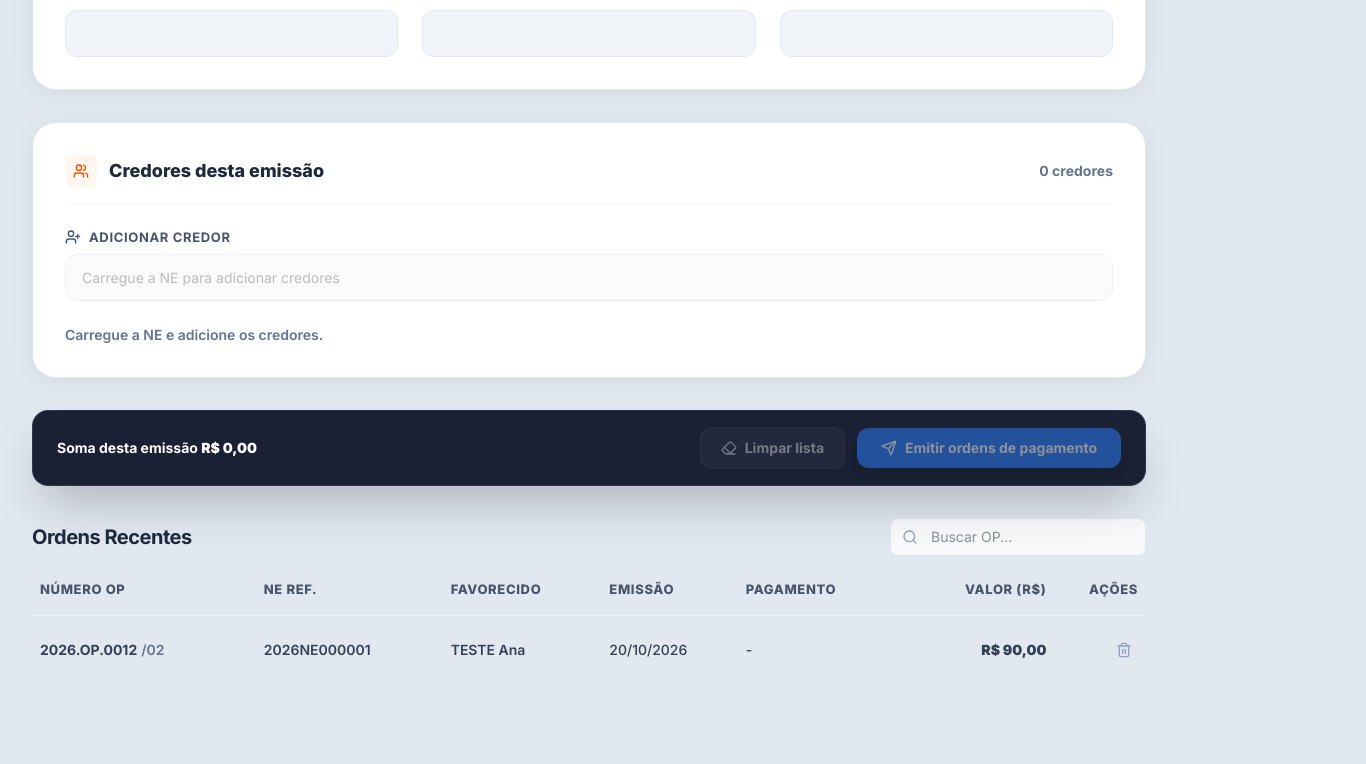
Test: Ordem de Pagamento — revisão da aba 4 › O1: excluir OP › ADMIN: pede o motivo, envia no DELETE, avisa e recarrega a lista
(page scrolled)
Click the button named "Excluir OP 2026.OP.0012 /02": coordinates (1124, 650) [1110, 636, 1138, 664]
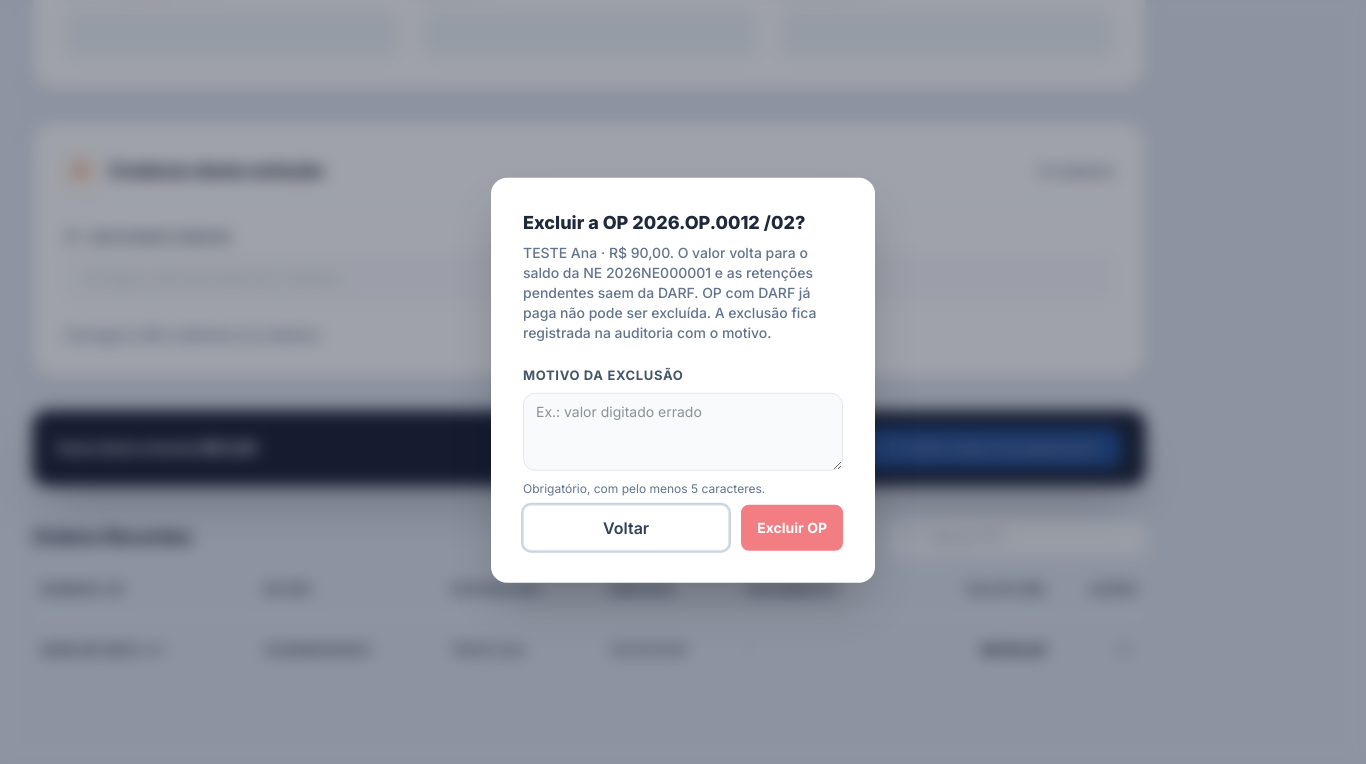
Expected: the dialog shows "volta para o saldo da NE 2026NE000001", [491, 178, 875, 582]
Expected: the button "Excluir OP" is disabled, [741, 504, 843, 550]
In the text box labelled "Motivo da exclusão": coordinates (683, 431) [523, 392, 843, 470], type "abc"
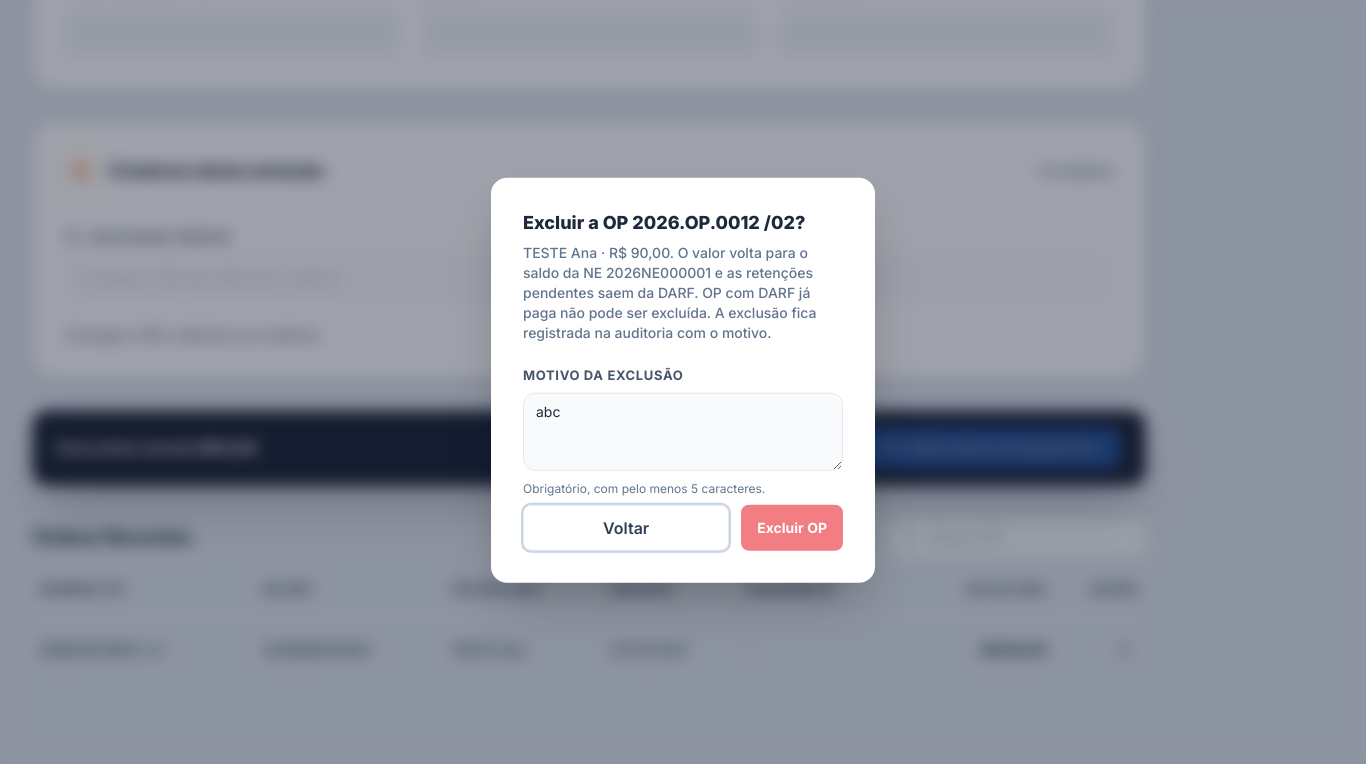
Expected: the button "Excluir OP" is disabled, [741, 504, 843, 550]
Replace the text in the text box labelled "Motivo da exclusão" with "TESTE valor errado": coordinates (683, 431) [523, 392, 843, 470]
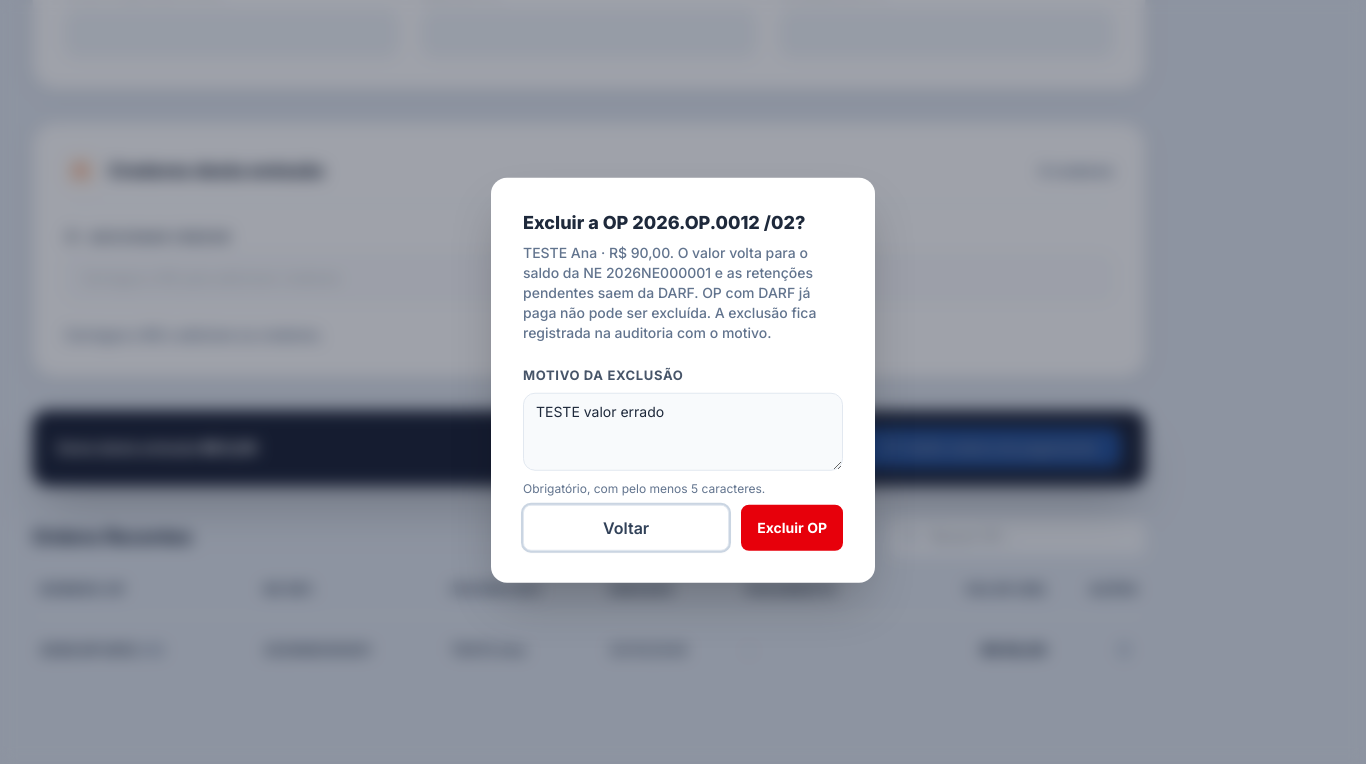
Expected: the button "Excluir OP" is enabled
Click the button "Excluir OP": coordinates (792, 527) [741, 504, 843, 550]
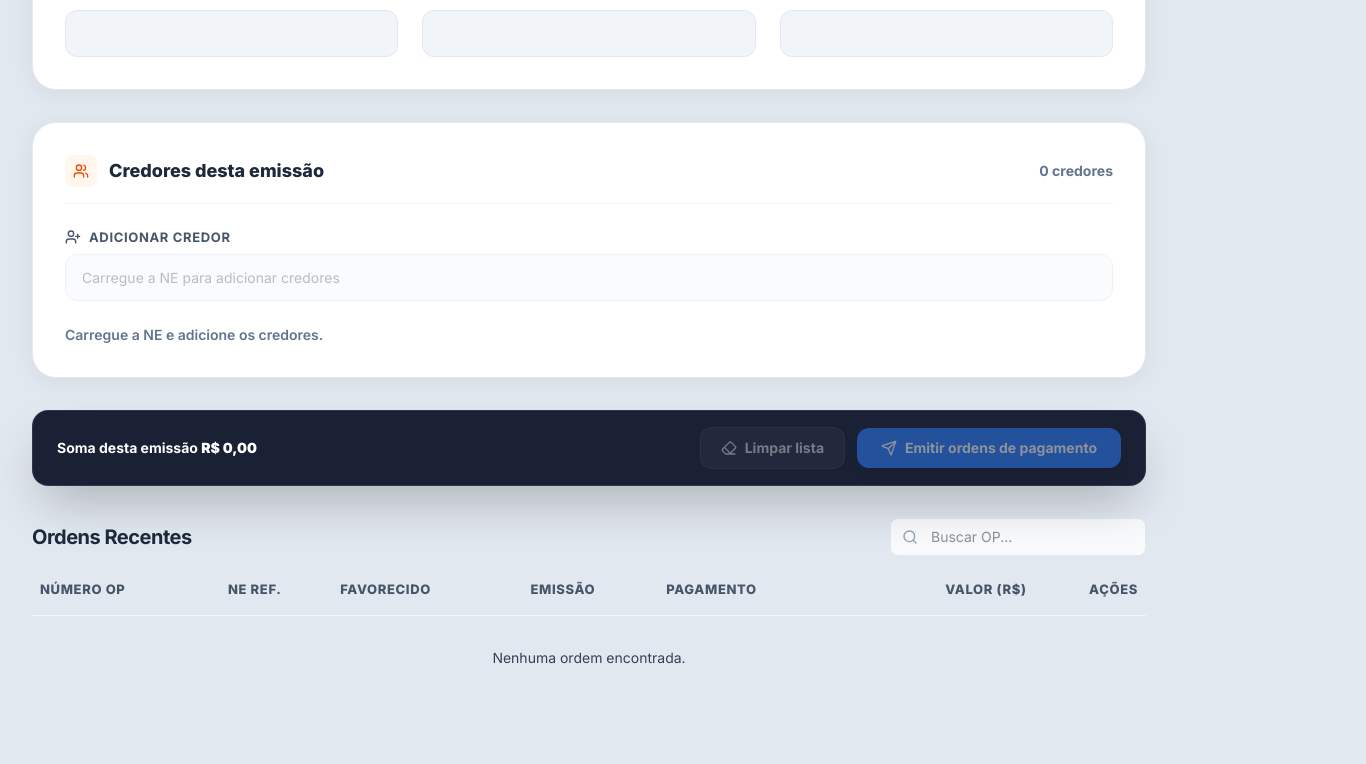
Expected: the dialog is gone
Expected: the text "Nenhuma ordem encontrada." is shown, [32, 615, 1146, 700]
